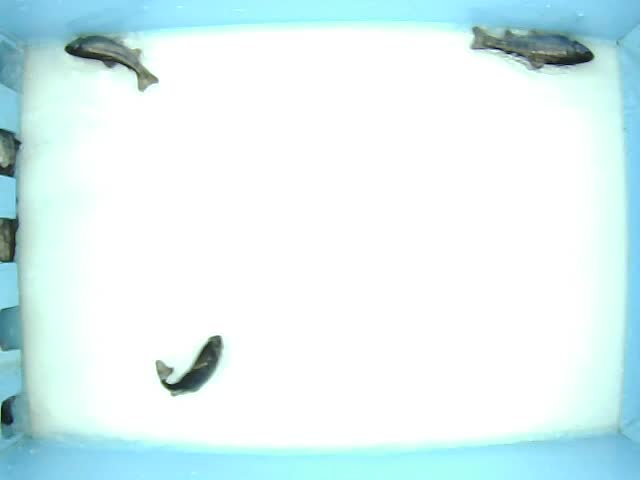fish: (470, 25, 593, 70), (63, 34, 157, 90), (157, 334, 221, 394)
